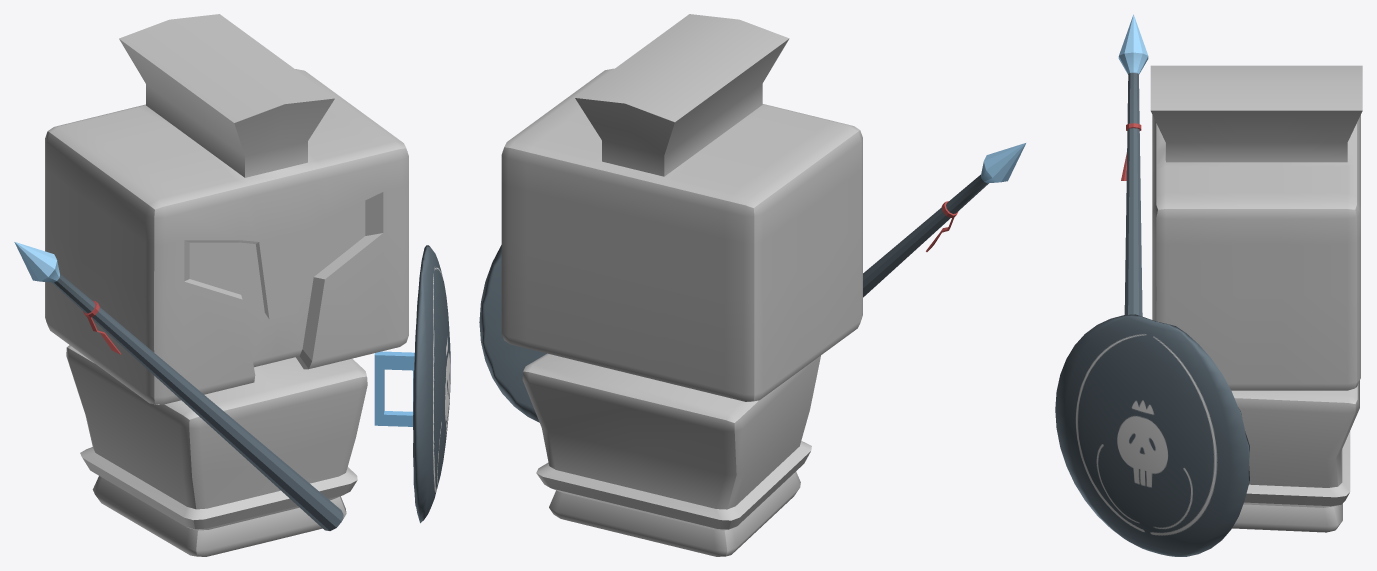
Rendered from gigiSkeleton_walk.fbx.
The picture shows the model from 3 angles, left to right: view 1: azimuth 30°, elevation 25°; view 2: azimuth 150°, elevation 25°; view 3: azimuth 270°, elevation 25°; orthographic projection. The views are drawn at different scales.
Visible parts, largest first — view 1: _Skeliton, _Shield, _Weapon; view 2: _Skeliton, _Shield, _Weapon; view 3: _Skeliton, _Shield, _Weapon.
Boxes of the visible parts, x1,y1,x2,y2 form: _Skeliton: (45,14,408,556); _Shield: (374,245,450,523); _Weapon: (14,242,343,530); _Skeliton: (501,14,862,556); _Shield: (479,245,546,422); _Weapon: (863,143,1025,297); _Skeliton: (1150,65,1362,532); _Shield: (1055,314,1249,556); _Weapon: (1118,14,1148,316).
Bounding box in the file's own units: 10.9 × 9.63 × 6.47.
